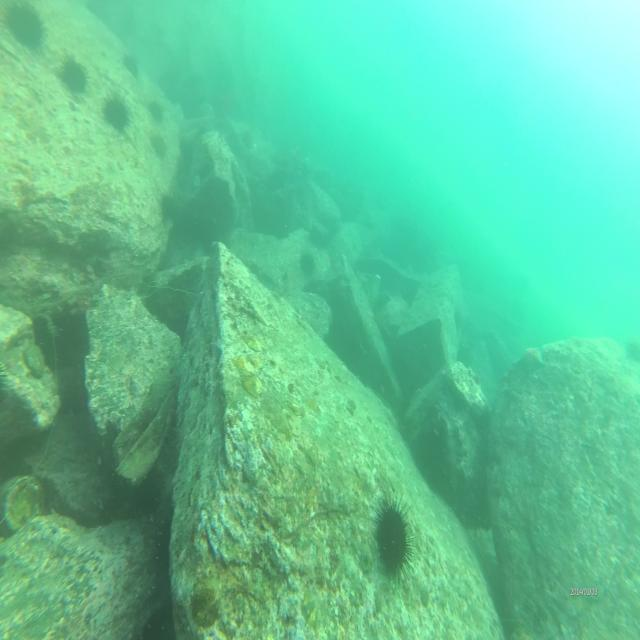echinus: (372, 489, 419, 589), (0, 0, 50, 54), (56, 48, 93, 98), (100, 90, 132, 135), (158, 194, 178, 225), (149, 130, 168, 160), (122, 52, 141, 82), (147, 97, 164, 126), (300, 248, 316, 274)
